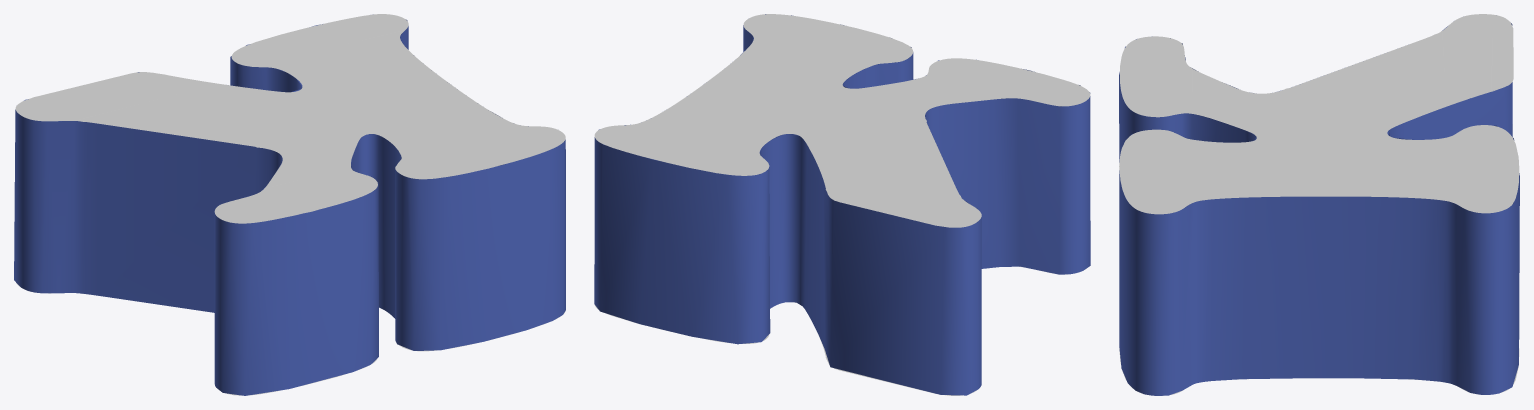
The picture shows the model from 3 angles, left to right: view 1: azimuth 30°, elevation 25°; view 2: azimuth 150°, elevation 25°; view 3: azimuth 270°, elevation 25°; orthographic projection. The views are drawn at different scales.
Parts seen in each view (by area): view 1: K; view 2: K; view 3: K.
Part boxes in pixels (x1=…): K: x1=14, y1=14, x2=565, y2=395; K: x1=594, y1=14, x2=1090, y2=395; K: x1=1119, y1=14, x2=1519, y2=395.
Size of the model in its own units: 1.74 by 0.7361 by 1.47.
